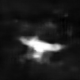plane: (17, 33, 67, 64)
